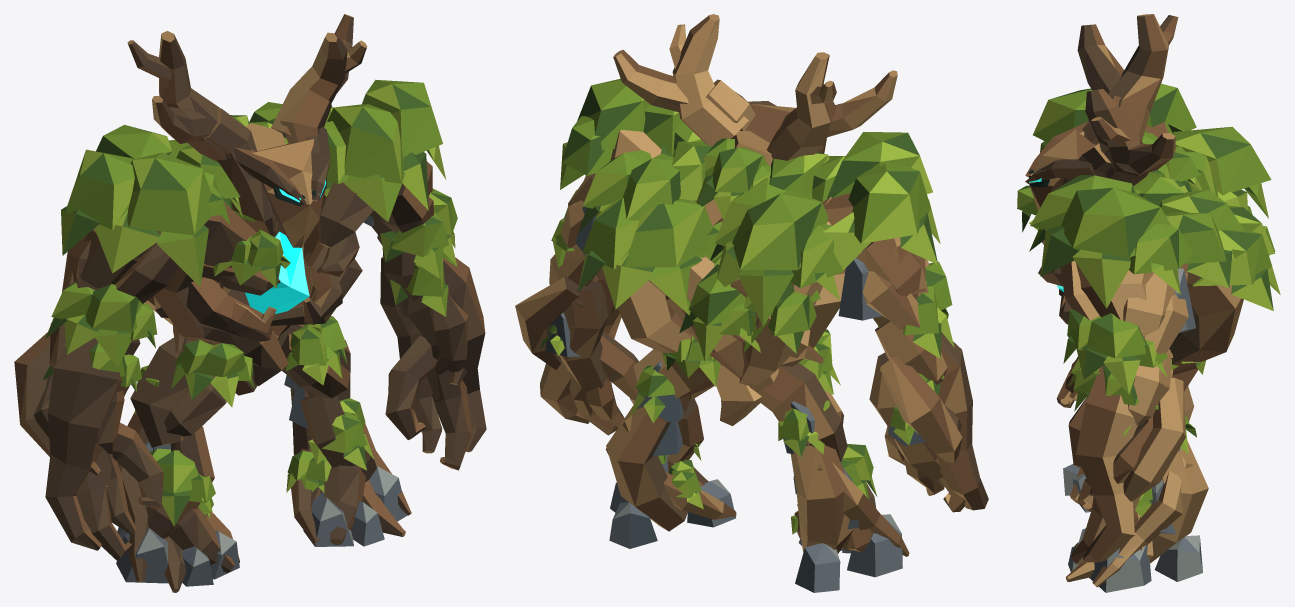
Rendered from tide-root-colossus-complete-pass1.glb.
3 views of the same model, side by side, from view 1: azimuth 30°, elevation 25°; view 2: azimuth 150°, elevation 25°; view 3: azimuth 270°, elevation 25° (orthographic). The views are drawn at different scales.
Parts seen in each view (by area): view 1: Forearm main to outer claw -1, Outer shoulder growth -1 moss lobe 1, Forearm main to outer claw 1, Outer shoulder growth 1 moss lobe 0, Outer shoulder growth -1 moss lobe 0, Long tapered bark mask, Outer shoulder growth 1 moss lobe 1, Thigh load root -1, Crown cheek flow -1, Opposed root thumb 1, Crown left main, Forearm root split -1 (+74 smaller); view 2: Left upper back mantle moss lobe 1, Calf rear load 1, Outer shoulder growth -1 moss lobe 0, Calf rear load -1, Right lower back mantle moss lobe 1, Crown right main, Forearm main to outer claw -1, Forearm root split -1, Forearm inner braid 1, Crown left main, Thigh load root -1, Outer shoulder growth -1 moss lobe 1 (+64 smaller); view 3: Forearm main to outer claw 1, Outer shoulder growth 1 moss lobe 1, Flank bowed trunk 1, Crown left main, Left upper back mantle moss lobe 1, Forearm root split 1, Lower leg lateral root 1, Calf rear load 1, Crown right main, Outer shoulder growth 1 moss lobe 2, Right lower back mantle moss lobe 0, Elbow growth 1 moss lobe 1 (+42 smaller).
Part boxes in pixels (bbox=[...]): Forearm main to outer claw -1: bbox=[45, 337, 129, 550]; Outer shoulder growth -1 moss lobe 1: bbox=[127, 152, 211, 235]; Forearm main to outer claw 1: bbox=[402, 257, 486, 452]; Outer shoulder growth 1 moss lobe 0: bbox=[327, 104, 403, 183]; Outer shoulder growth -1 moss lobe 0: bbox=[65, 149, 134, 229]; Long tapered bark mask: bbox=[251, 139, 323, 247]; Outer shoulder growth 1 moss lobe 1: bbox=[362, 79, 442, 157]; Thigh load root -1: bbox=[130, 337, 217, 447]; Crown cheek flow -1: bbox=[207, 108, 273, 236]; Opposed root thumb 1: bbox=[385, 336, 437, 439]; Crown left main: bbox=[159, 31, 226, 162]; Forearm root split -1: bbox=[14, 332, 50, 456]; Left upper back mantle moss lobe 1: bbox=[732, 189, 827, 270]; Calf rear load 1: bbox=[606, 405, 687, 531]; Outer shoulder growth -1 moss lobe 0: bbox=[848, 163, 930, 243]; Calf rear load -1: bbox=[790, 445, 854, 553]; Right lower back mantle moss lobe 1: bbox=[624, 199, 712, 267]; Crown right main: bbox=[672, 14, 748, 146]; Forearm main to outer claw -1: bbox=[937, 332, 988, 510]; Forearm root split -1: bbox=[880, 356, 962, 463]; Forearm inner braid 1: bbox=[559, 281, 608, 401]; Crown left main: bbox=[767, 52, 835, 160]; Thigh load root -1: bbox=[750, 362, 847, 461]; Outer shoulder growth -1 moss lobe 1: bbox=[827, 132, 932, 198]; Forearm main to outer claw 1: bbox=[1076, 366, 1137, 562]; Outer shoulder growth 1 moss lobe 1: bbox=[1061, 187, 1171, 257]; Flank bowed trunk 1: bbox=[1169, 285, 1243, 371]; Crown left main: bbox=[1108, 14, 1168, 140]; Left upper back mantle moss lobe 1: bbox=[1173, 126, 1271, 195]; Forearm root split 1: bbox=[1123, 377, 1185, 501]; Lower leg lateral root 1: bbox=[1092, 455, 1193, 587]; Calf rear load 1: bbox=[1149, 441, 1208, 563]; Crown right main: bbox=[1085, 89, 1148, 185]; Outer shoulder growth 1 moss lobe 2: bbox=[1129, 223, 1192, 274]; Right lower back mantle moss lobe 0: bbox=[1192, 229, 1271, 286]; Elbow growth 1 moss lobe 1: bbox=[1086, 313, 1145, 358].
Size of the model in its own units: 5.15 by 5.79 by 2.88.
